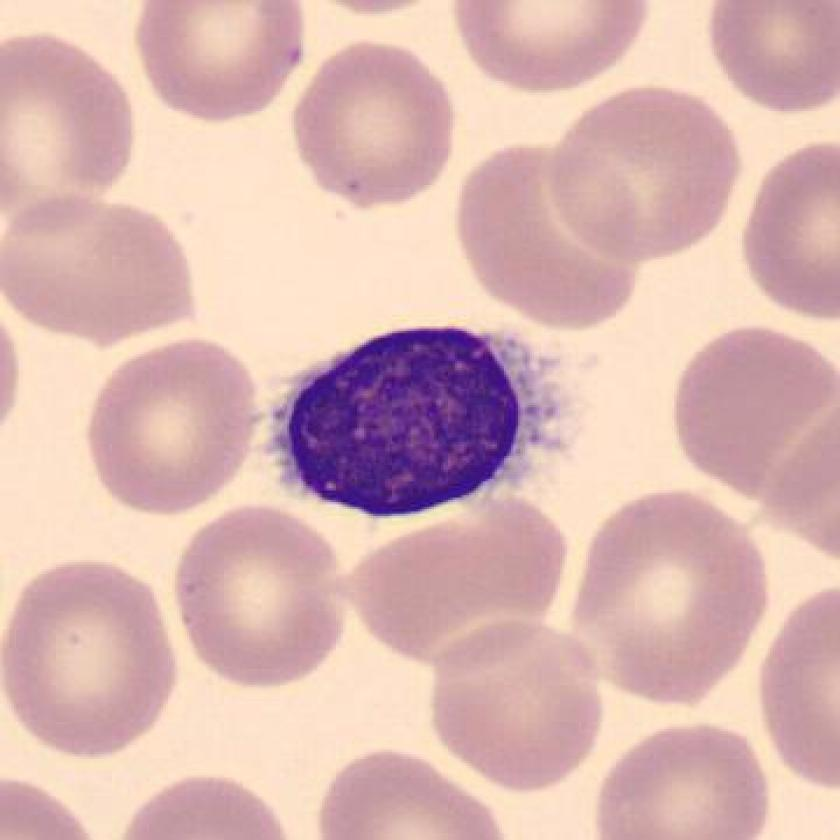lymphocyte: (256, 299, 550, 545)
